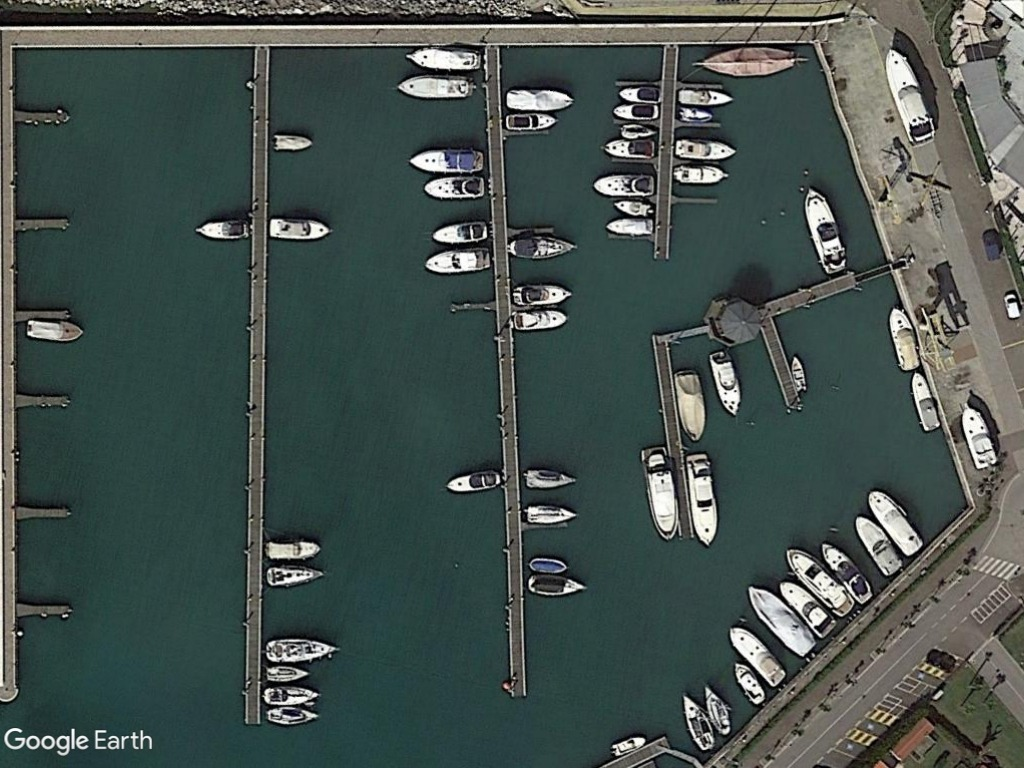boat: (880, 43, 936, 148), (747, 581, 818, 659), (783, 545, 857, 617), (797, 183, 852, 275), (637, 443, 681, 543), (865, 486, 926, 557), (687, 44, 804, 79), (819, 538, 877, 606), (776, 575, 839, 637), (682, 451, 721, 549), (727, 625, 787, 686), (850, 514, 905, 576), (955, 400, 1001, 471), (394, 68, 480, 103), (705, 348, 747, 418), (672, 366, 708, 443), (406, 144, 488, 175), (885, 304, 922, 372), (678, 692, 718, 754), (261, 634, 343, 664), (506, 230, 582, 262), (403, 44, 485, 73), (501, 84, 579, 114), (905, 367, 941, 432), (420, 246, 493, 276), (509, 279, 578, 309), (266, 214, 336, 243), (672, 134, 742, 163), (728, 659, 769, 708), (590, 170, 659, 198), (429, 217, 493, 247), (261, 533, 325, 561), (702, 680, 734, 736), (521, 499, 582, 528), (418, 173, 486, 199), (192, 214, 251, 243), (441, 468, 504, 495), (520, 465, 583, 492), (597, 134, 662, 160), (509, 308, 571, 335), (22, 318, 86, 344), (524, 573, 590, 598), (263, 563, 324, 590), (261, 684, 327, 708), (670, 162, 735, 186), (674, 85, 739, 108), (601, 213, 658, 237), (265, 703, 324, 725), (269, 128, 318, 154), (501, 110, 561, 131), (607, 730, 649, 758), (614, 82, 665, 104), (263, 662, 313, 683), (608, 102, 663, 121), (612, 198, 659, 219), (788, 352, 810, 395), (526, 554, 573, 574), (616, 122, 662, 139), (673, 104, 716, 121)
van: (1001, 290, 1024, 322)
